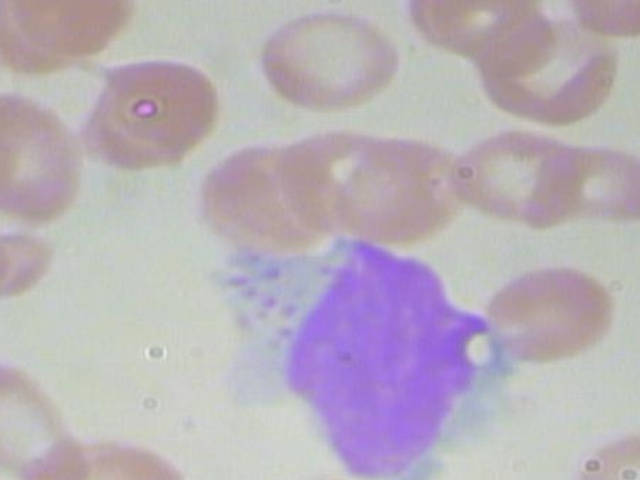RBC: (65, 46, 226, 187), (463, 4, 626, 135), (249, 6, 404, 110), (475, 260, 629, 362), (449, 130, 585, 227), (0, 349, 99, 480), (0, 86, 93, 222), (530, 136, 640, 226), (43, 434, 197, 480), (559, 425, 640, 480)
WBC: (195, 235, 535, 480)
